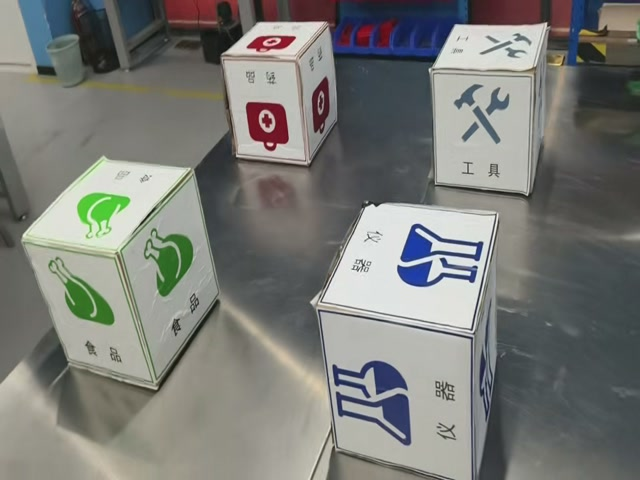Cube_food: (23, 158, 193, 259)
Cube_ins: (316, 204, 497, 338)
Cube_medicine: (222, 22, 329, 64)
Cube_tool: (430, 24, 547, 75)
